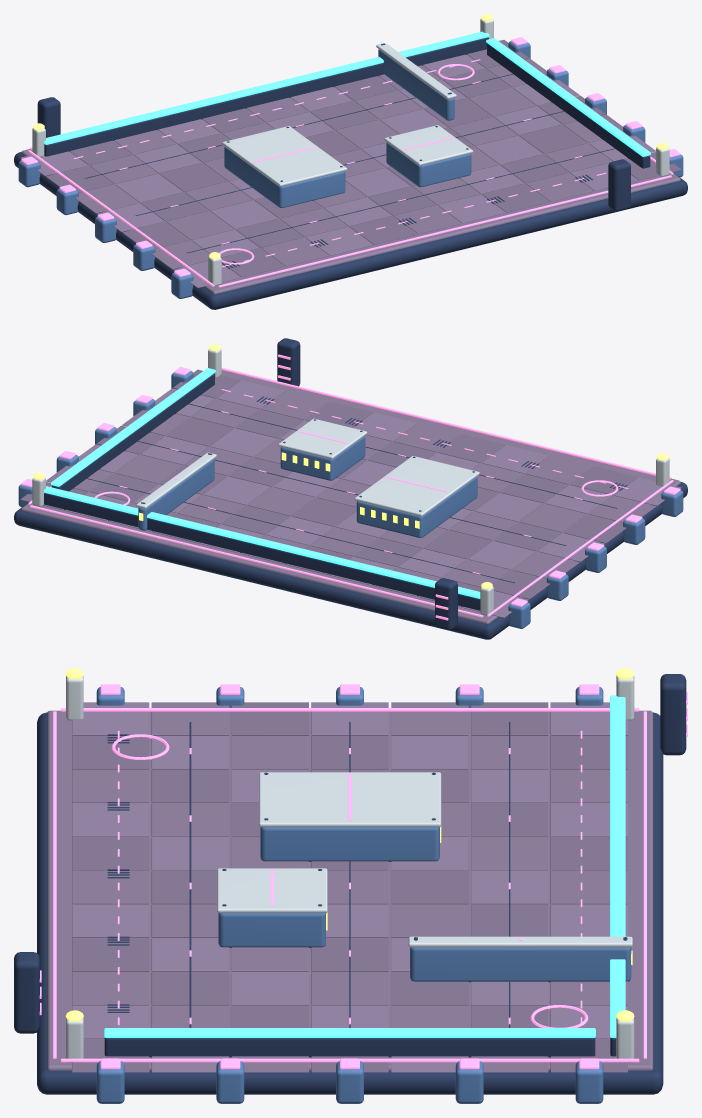
File: citadel.glb
3 renders of one model, top to bottom at view 1: azimuth 30°, elevation 25°; view 2: azimuth 150°, elevation 25°; view 3: azimuth 270°, elevation 25°, orthographic. The views are drawn at different scales.
Visible parts, largest first — view 1: Floating foundation, Arena floor, Reflector base, Cover cap, Reflector beam, Cover, Cover cap.001, Reflector base.001, Cover.001, Reflector beam.001, Cover.002, Edge light.001 (+75 smaller); view 2: Arena floor, Floating foundation, Reflector base, Cover cap, Reflector beam, Cover, Cover cap.001, Reflector base.001, Cover.001, Reflector beam.001, Cover.002, Edge light.001 (+66 smaller); view 3: Arena floor, Floating foundation, Cover cap, Reflector base.001, Cover.002, Cover, Cover cap.001, Reflector beam.001, Reflector beam, Cover.001, Cover cap.002, Floor panel.009 (+84 smaller).
Boxes of the visible parts, x1,y1,x2,y2 form: Floating foundation: (14, 152, 687, 309); Arena floor: (21, 55, 680, 294); Reflector base: (44, 37, 488, 156); Cover cap: (222, 126, 347, 186); Reflector beam: (44, 31, 489, 144); Cover: (224, 146, 345, 207); Cover cap.001: (384, 125, 473, 165); Reflector base.001: (487, 43, 650, 168); Cover.001: (386, 142, 471, 187); Reflector beam.001: (486, 38, 650, 156); Cover.002: (378, 49, 454, 120); Edge light.001: (218, 175, 671, 287); Arena floor: (21, 370, 680, 623); Floating foundation: (14, 482, 687, 639); Reflector base: (44, 493, 480, 610); Cover cap: (354, 456, 479, 516); Reflector beam: (44, 486, 480, 598); Cover: (356, 476, 477, 537); Cover cap.001: (278, 418, 367, 459); Reflector base.001: (51, 373, 214, 491); Cover.001: (280, 436, 365, 480); Reflector beam.001: (51, 368, 215, 486); Cover.002: (138, 459, 214, 530); Edge light.001: (221, 367, 671, 479); Arena floor: (47, 710, 653, 1070); Floating foundation: (37, 712, 663, 1094); Cover cap: (259, 772, 441, 827); Reflector base.001: (104, 1038, 595, 1057); Cover.002: (410, 947, 631, 982); Cover: (260, 827, 439, 861); Cover cap.001: (217, 868, 327, 913); Reflector beam.001: (104, 1028, 595, 1037); Reflector beam: (610, 695, 625, 1037); Cover.001: (218, 913, 325, 947); Cover cap.002: (408, 936, 632, 947); Floor panel.009: (391, 736, 468, 769).
Bounding box in the file's own units: 22.9 × 2.35 × 16.89.
